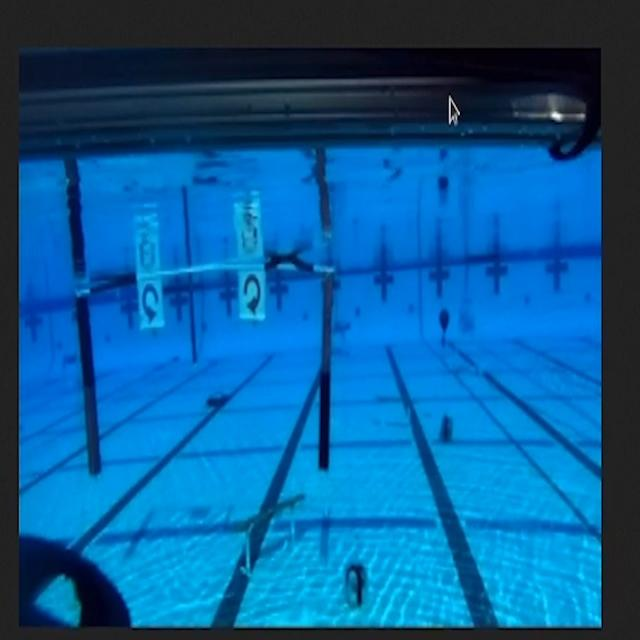Gate: (69, 273, 347, 488)
